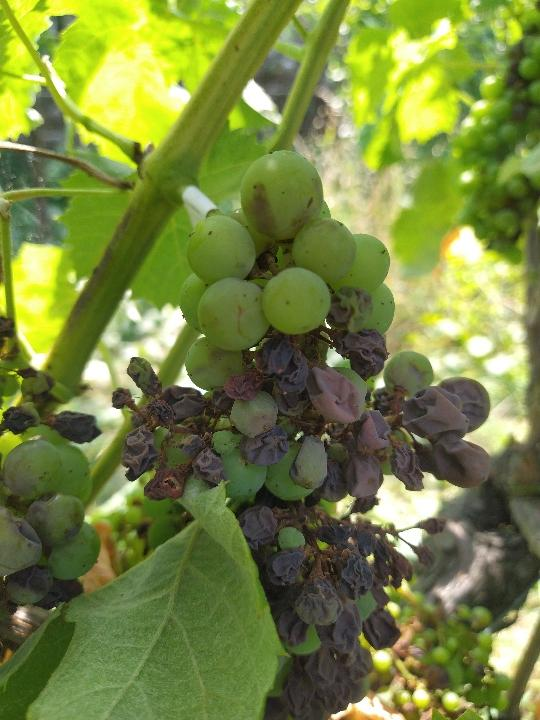grape: (111, 145, 496, 715)
